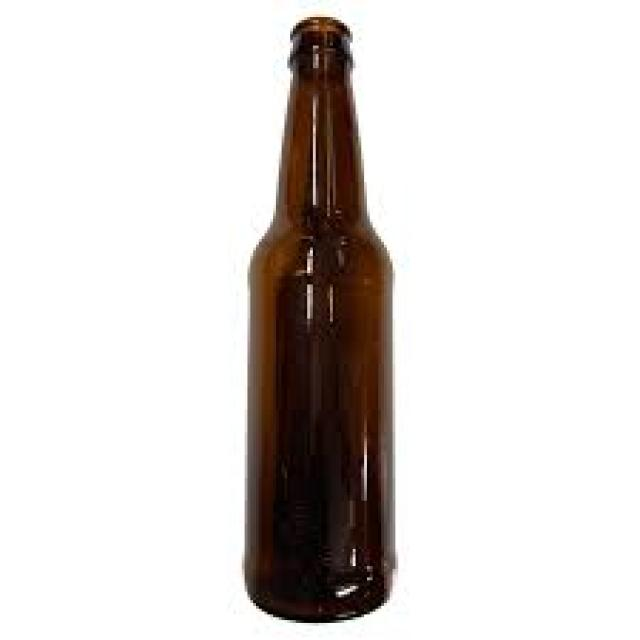Botella: (244, 8, 399, 614)
